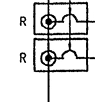Single Phase Tap-Off Unit: (29, 35, 89, 74), (30, 0, 90, 36)
